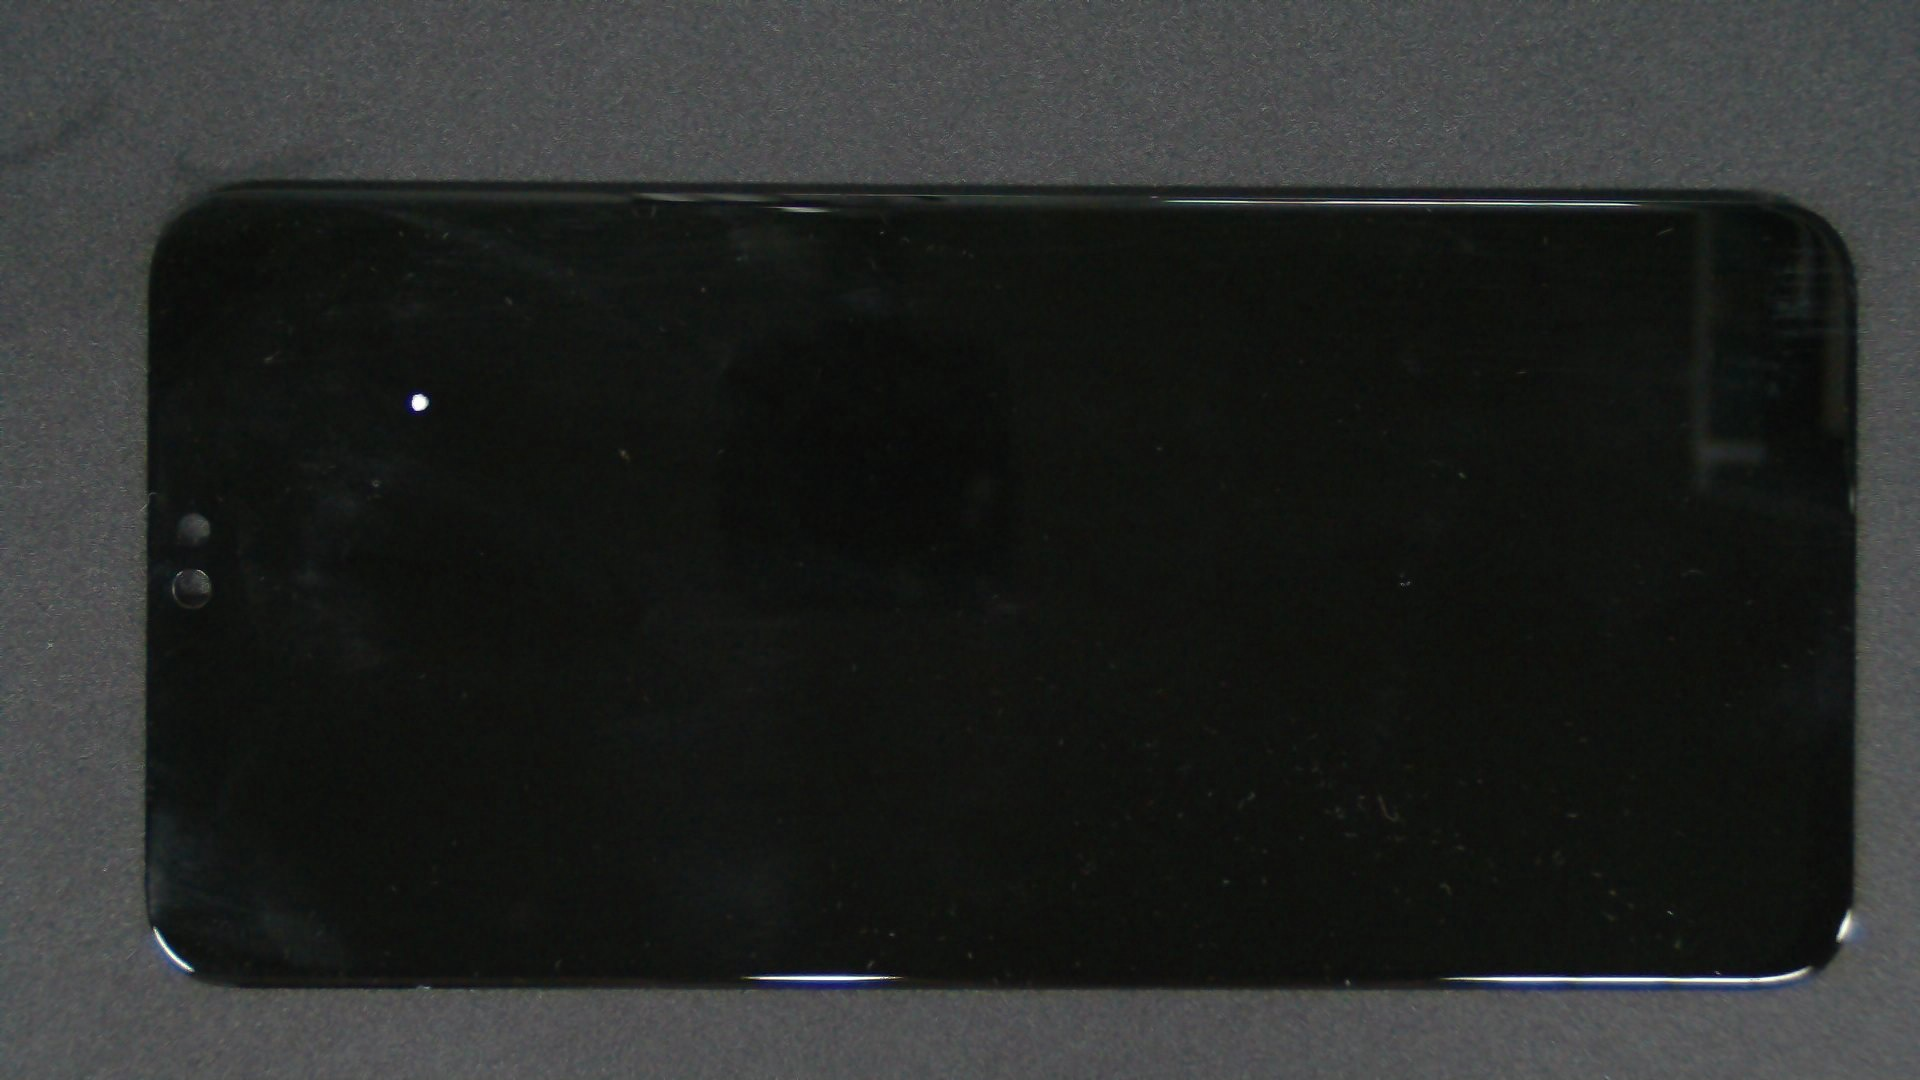oil: (211, 195, 629, 588)
